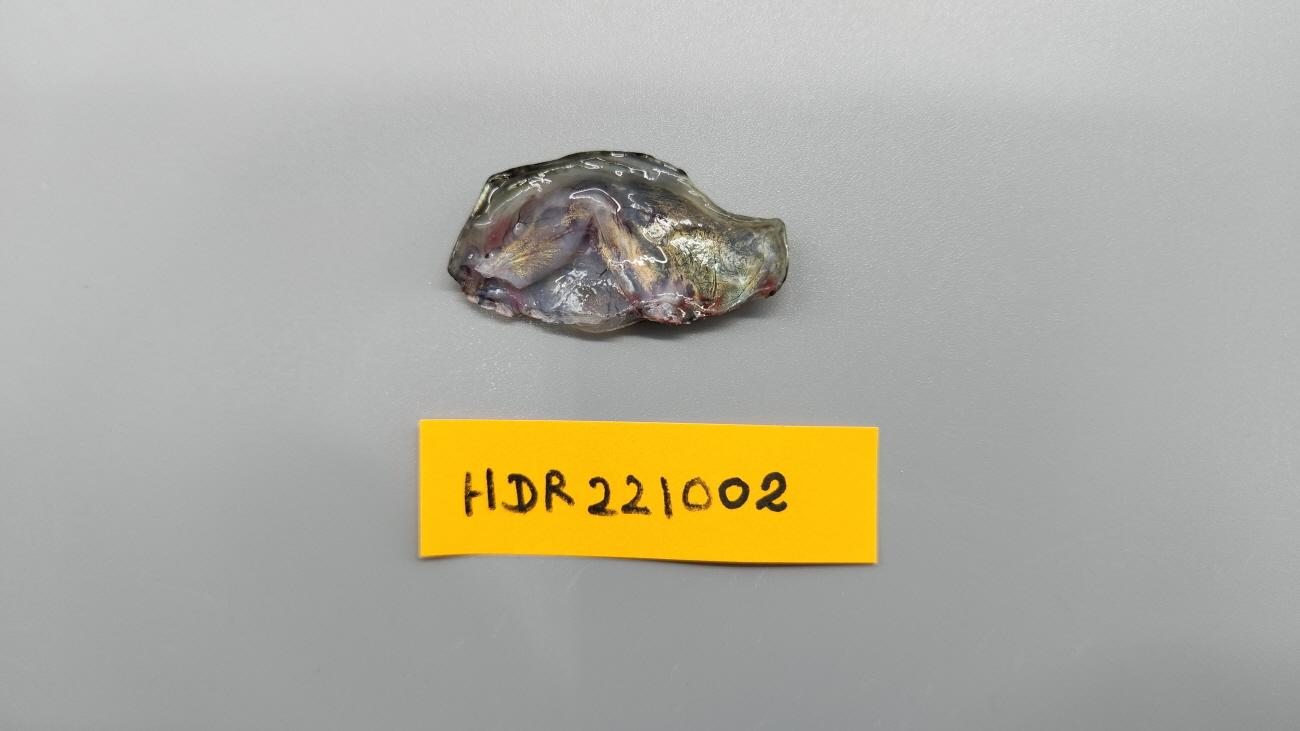POGCN: (446, 150, 789, 334)
